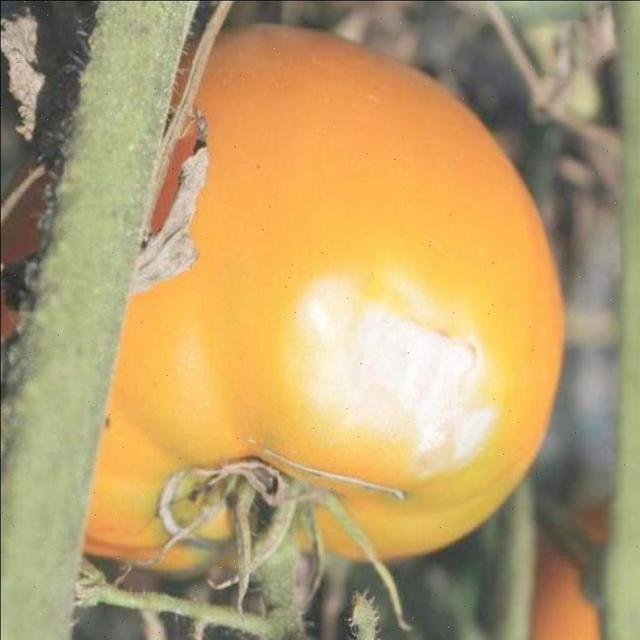Sunscald Fruit: (188, 176, 343, 324)
